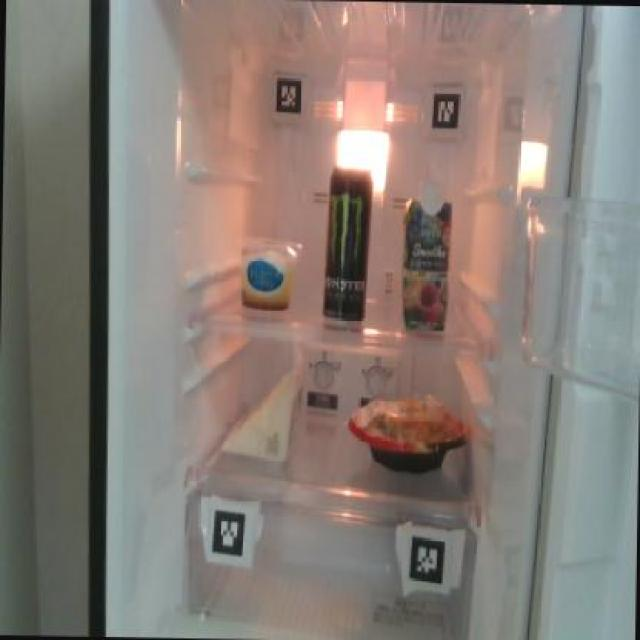bento: (345, 398, 469, 476)
energy_drink: (320, 165, 374, 329)
pudding: (235, 229, 300, 311)
sandwich: (220, 357, 302, 466)
smoothie: (398, 177, 453, 331)
